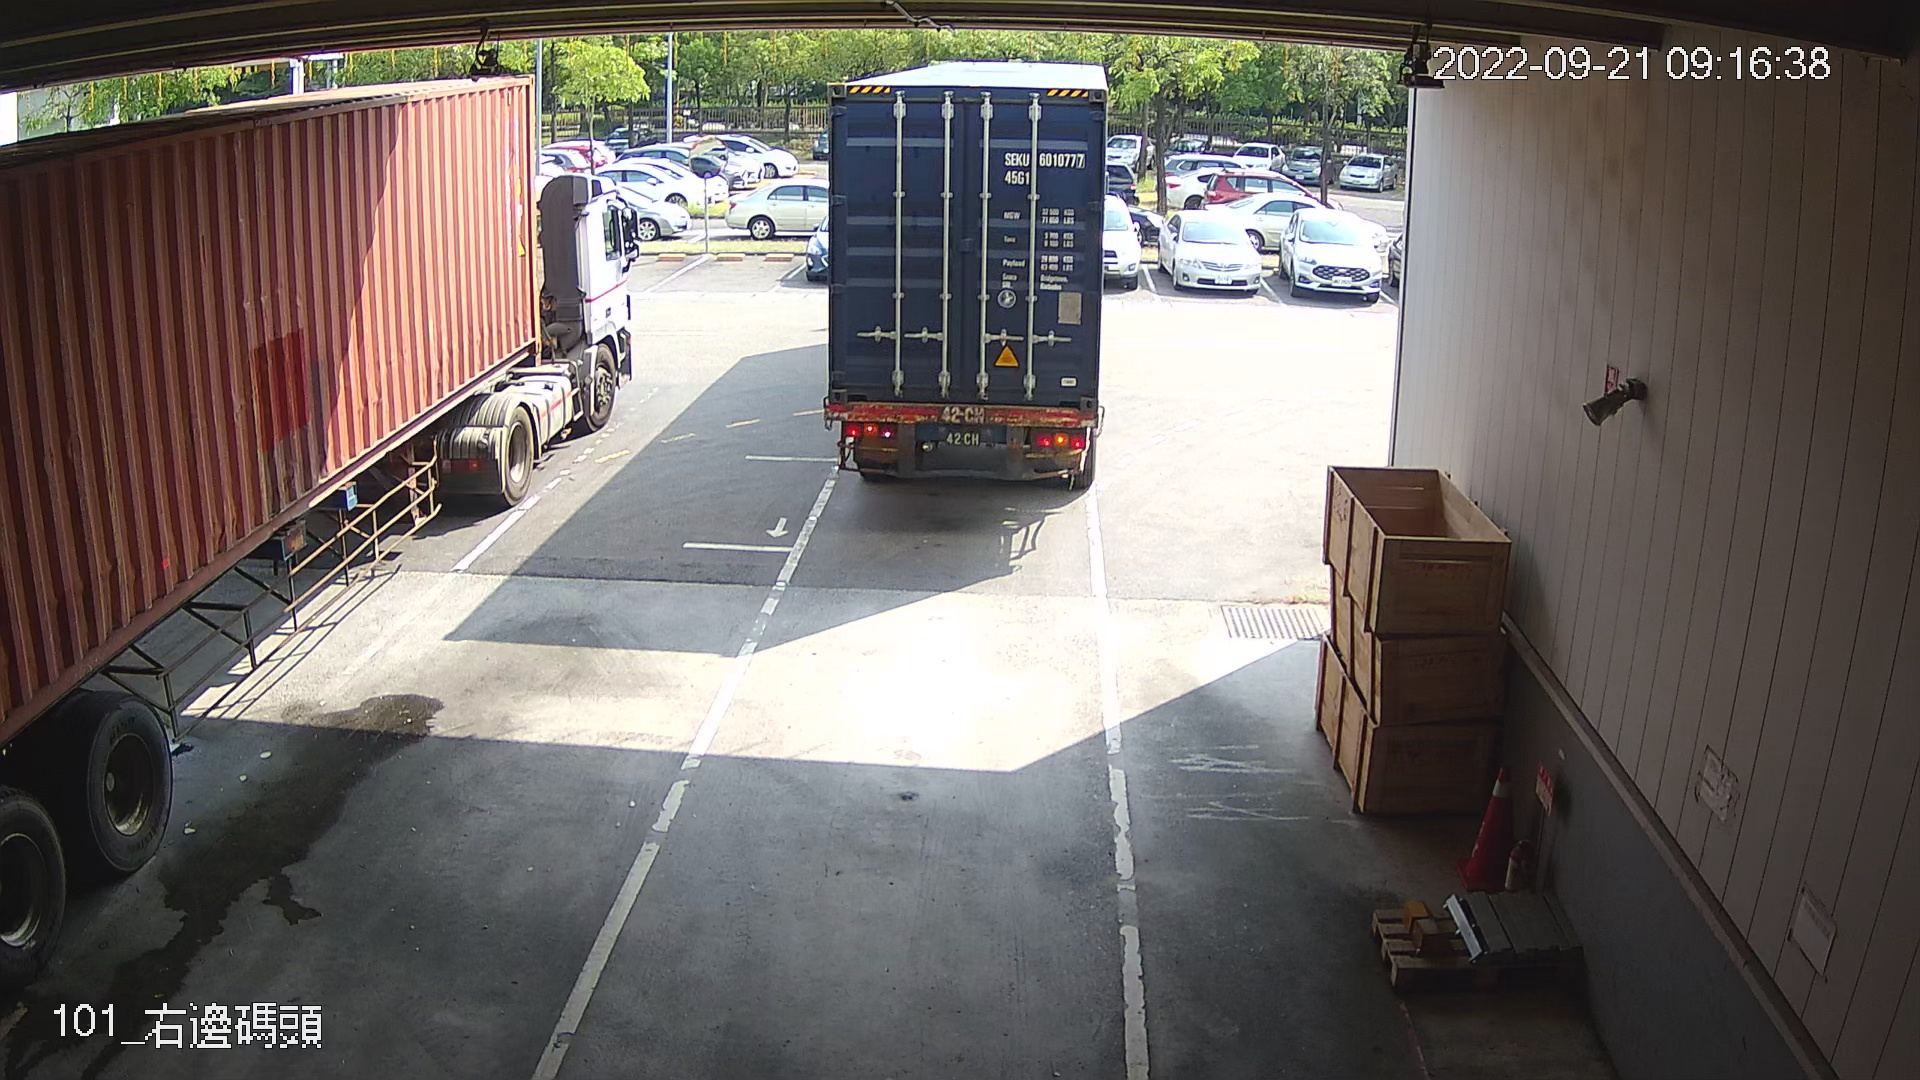container: (997, 146, 1091, 193)
